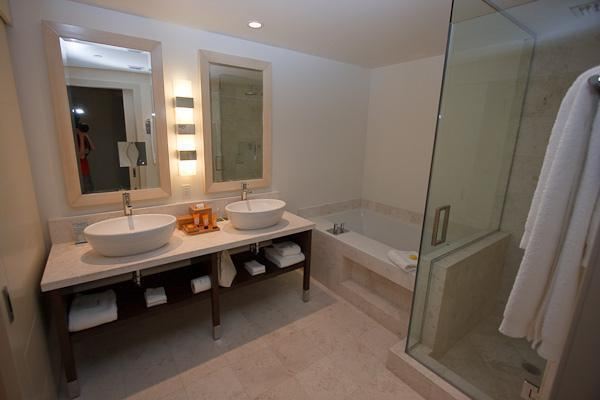Ducha: (404, 0, 599, 399)
Lavamanos: (79, 186, 176, 258), (228, 176, 283, 229)
